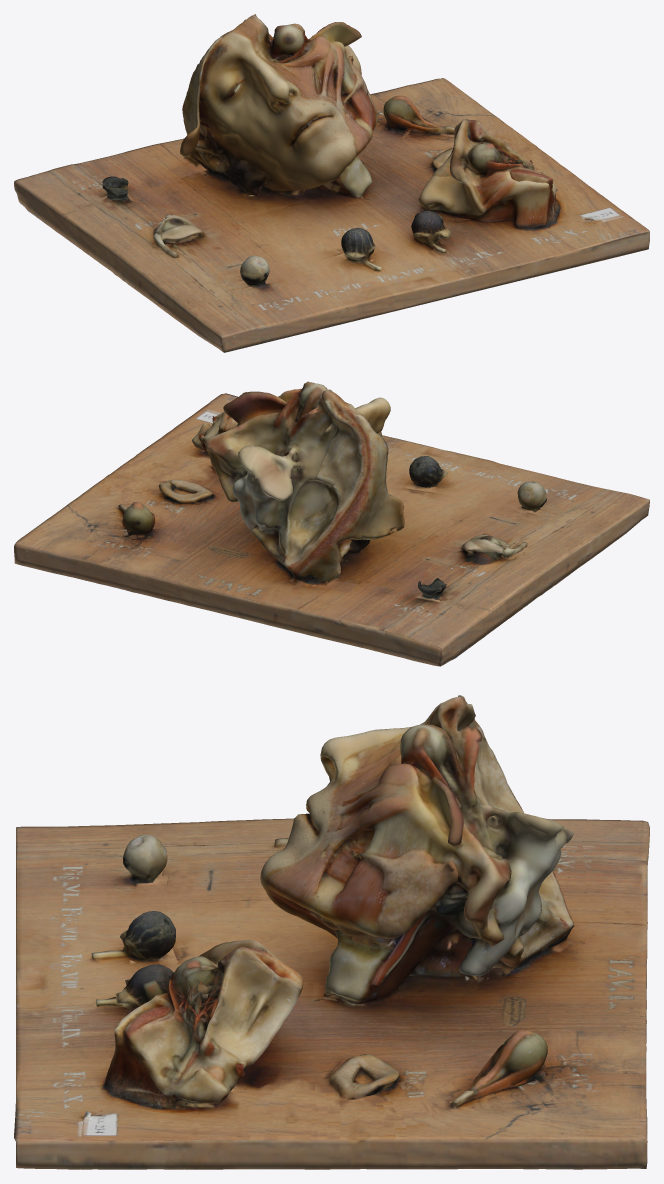
Rendered from mod_cera_organo_vista.gltf.
3 renders of one model, top to bottom at view 1: azimuth 30°, elevation 25°; view 2: azimuth 150°, elevation 25°; view 3: azimuth 270°, elevation 25°, orthographic. The views are drawn at different scales.
Parts seen in each view (by area): view 1: anatomia_def; view 2: anatomia_def; view 3: anatomia_def.
Boxes of the visible parts, <box> form: anatomia_def: <box>14,14,649,352</box>; anatomia_def: <box>14,381,649,666</box>; anatomia_def: <box>14,695,649,1169</box>.
Bounding box in the file's own units: 0.4215 × 0.1769 × 0.3557.
Materials: 1 (1 with a texture image).
